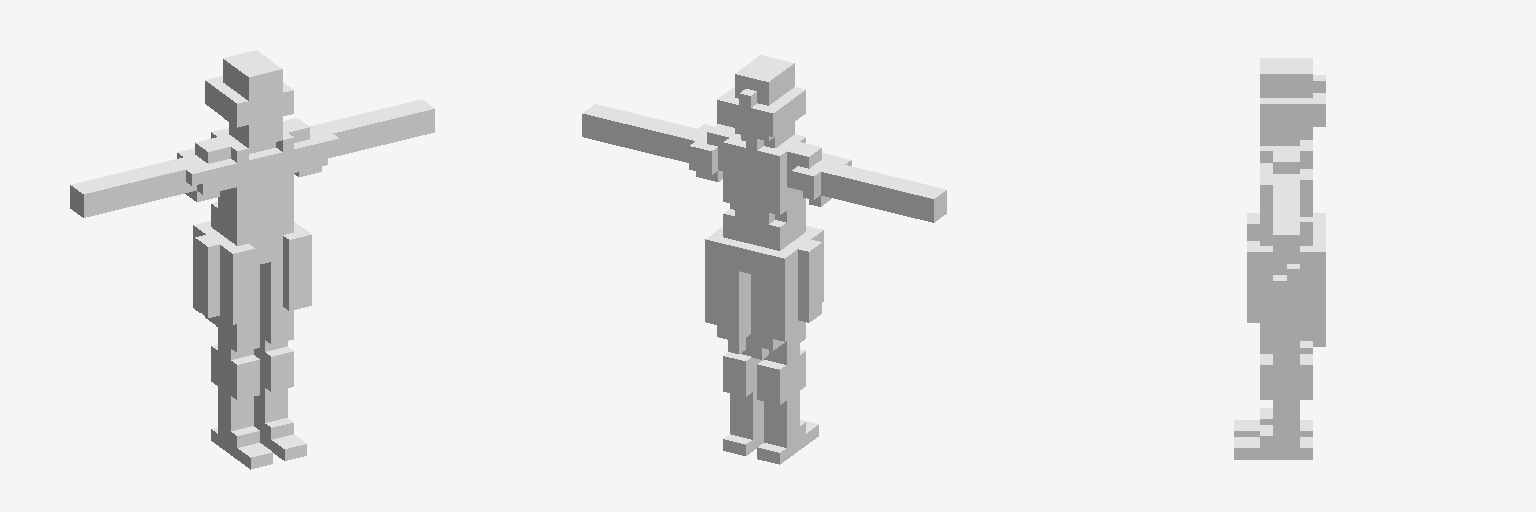
File: Morelos.obj
3 renders of one model, left to right at view 1: azimuth 30°, elevation 25°; view 2: azimuth 150°, elevation 25°; view 3: azimuth 270°, elevation 25°, orthographic.
Bounding box in the file's own units: 31 × 32 × 7.